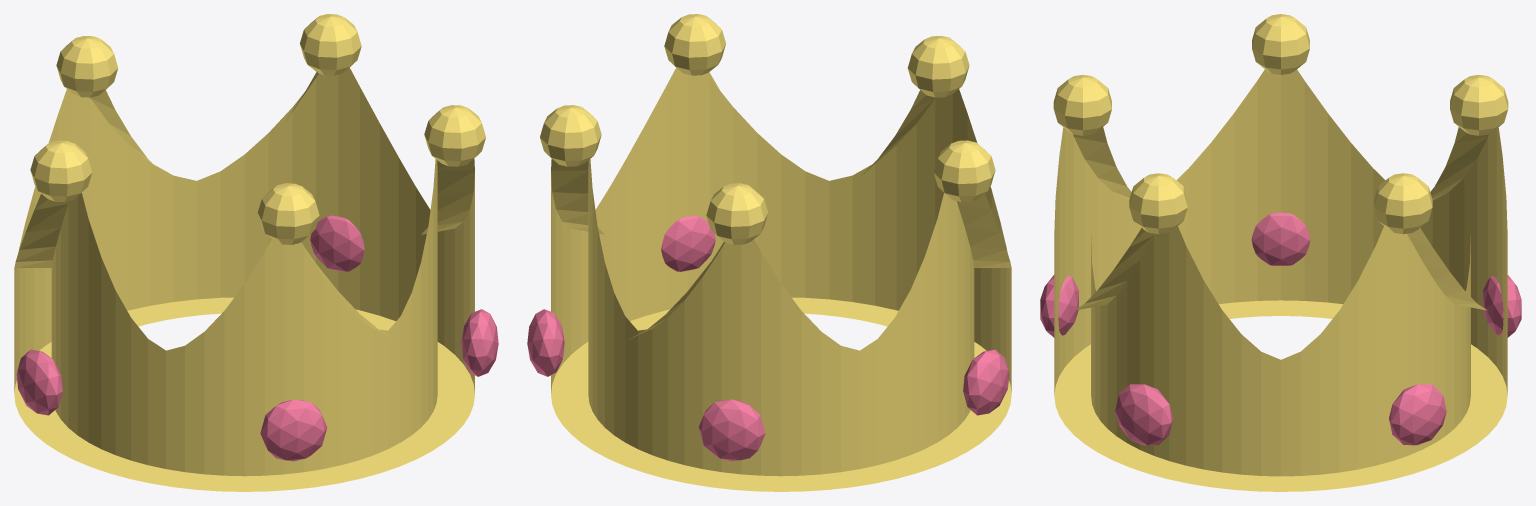
Rendered from SandCrown.glb.
The picture shows the model from 3 angles, left to right: view 1: azimuth 30°, elevation 25°; view 2: azimuth 150°, elevation 25°; view 3: azimuth 270°, elevation 25°; orthographic projection.
Parts seen in each view (by area): view 1: Gold, Gems; view 2: Gold, Gems; view 3: Gold, Gems.
Boxes of the visible parts, x1,y1,x2,y2 form: Gold: [14, 14, 485, 491]; Gems: [16, 215, 498, 461]; Gold: [540, 14, 1011, 491]; Gems: [527, 215, 1009, 461]; Gold: [1053, 14, 1508, 491]; Gems: [1040, 212, 1521, 445].
Bounding box in the file's own units: 1.56 × 1.05 × 1.57.
